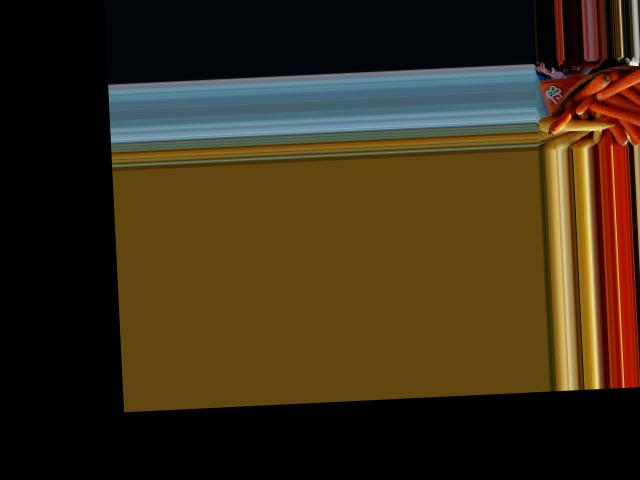carrot: (564, 70, 608, 101)
